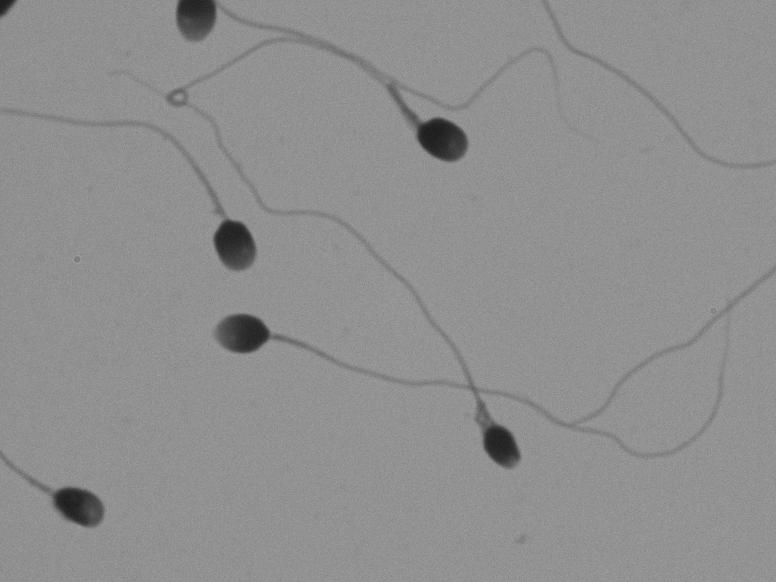Abnormal: (334, 183, 547, 511), (324, 52, 489, 180), (17, 431, 122, 549)
Normal: (8, 85, 264, 289), (202, 295, 457, 417)
